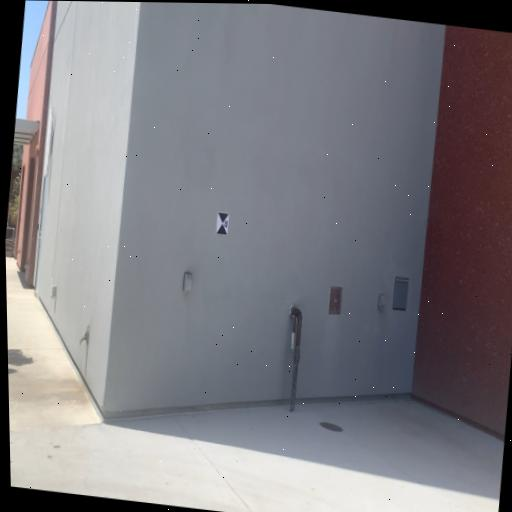target8: (215, 212, 231, 236)
